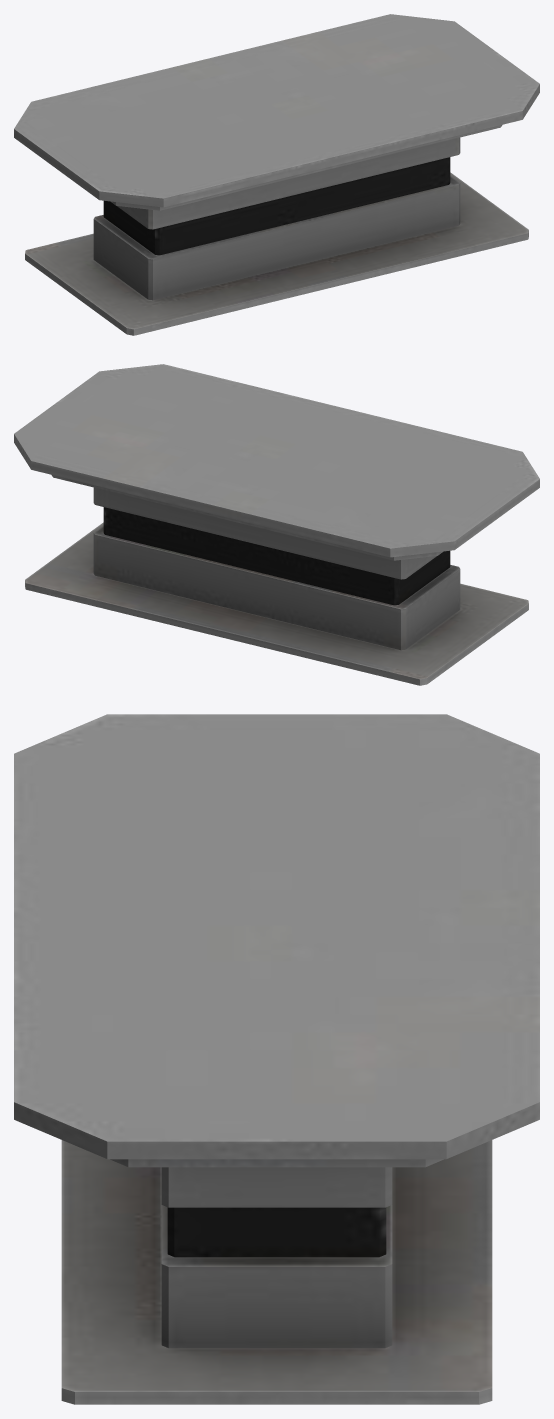
File: SM_table_01.glb
3 views of the same model, one above another, from view 1: azimuth 30°, elevation 25°; view 2: azimuth 150°, elevation 25°; view 3: azimuth 270°, elevation 25° (orthographic). The views are drawn at different scales.
Parts seen in each view (by area): view 1: SM_table_01; view 2: SM_table_01; view 3: SM_table_01.
Part boxes in pixels (x1,y1,x2,y2): SM_table_01: [14, 14, 539, 335]; SM_table_01: [14, 364, 539, 685]; SM_table_01: [14, 714, 539, 1404].
Bounding box in the file's own units: 2.62 × 0.8059 × 1.36.
1 material, 1 textured.
